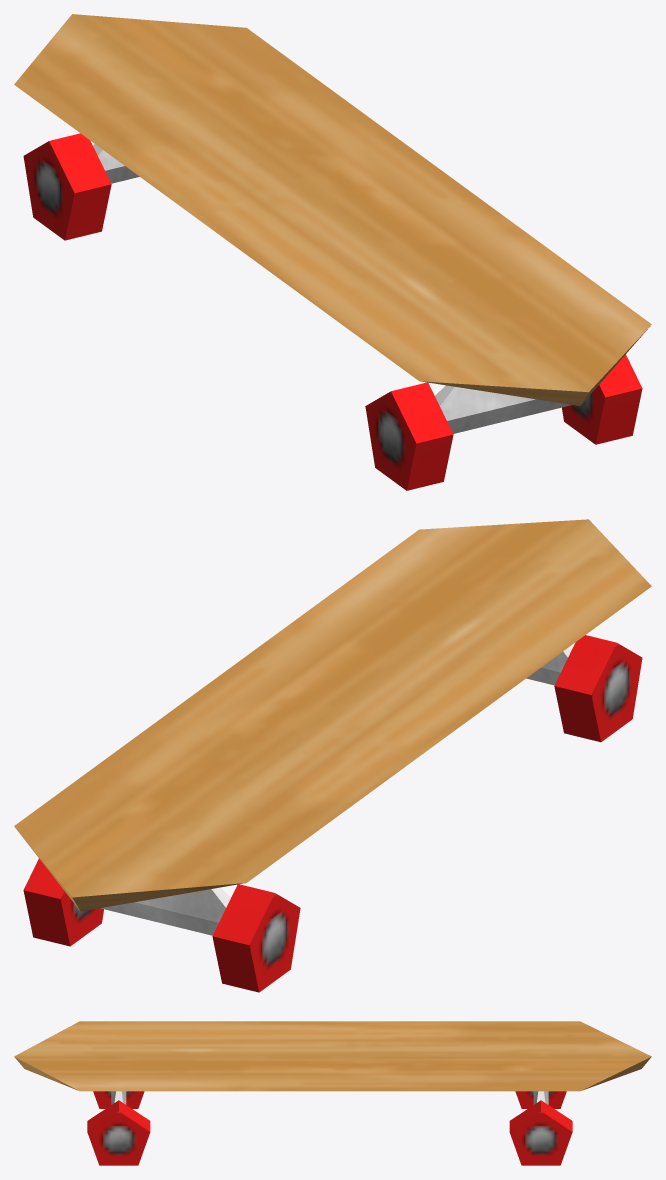
Rendered from Skateboard.fbx.
The picture shows the model from 3 angles, top to bottom: view 1: azimuth 30°, elevation 25°; view 2: azimuth 150°, elevation 25°; view 3: azimuth 270°, elevation 25°; orthographic projection. The views are drawn at different scales.
Visible parts, largest first — view 1: Maya_File_Assets:TexturedAssetsCurrent:joshimport:skateboard; view 2: Maya_File_Assets:TexturedAssetsCurrent:joshimport:skateboard; view 3: Maya_File_Assets:TexturedAssetsCurrent:joshimport:skateboard.
Boxes of the visible parts, x1=… form: Maya_File_Assets:TexturedAssetsCurrent:joshimport:skateboard: x1=14, y1=14, x2=651, y2=490; Maya_File_Assets:TexturedAssetsCurrent:joshimport:skateboard: x1=14, y1=519, x2=651, y2=992; Maya_File_Assets:TexturedAssetsCurrent:joshimport:skateboard: x1=14, y1=1021, x2=651, y2=1165.
Size of the model in its own units: 0.2276 by 0.1141 by 0.8751.
